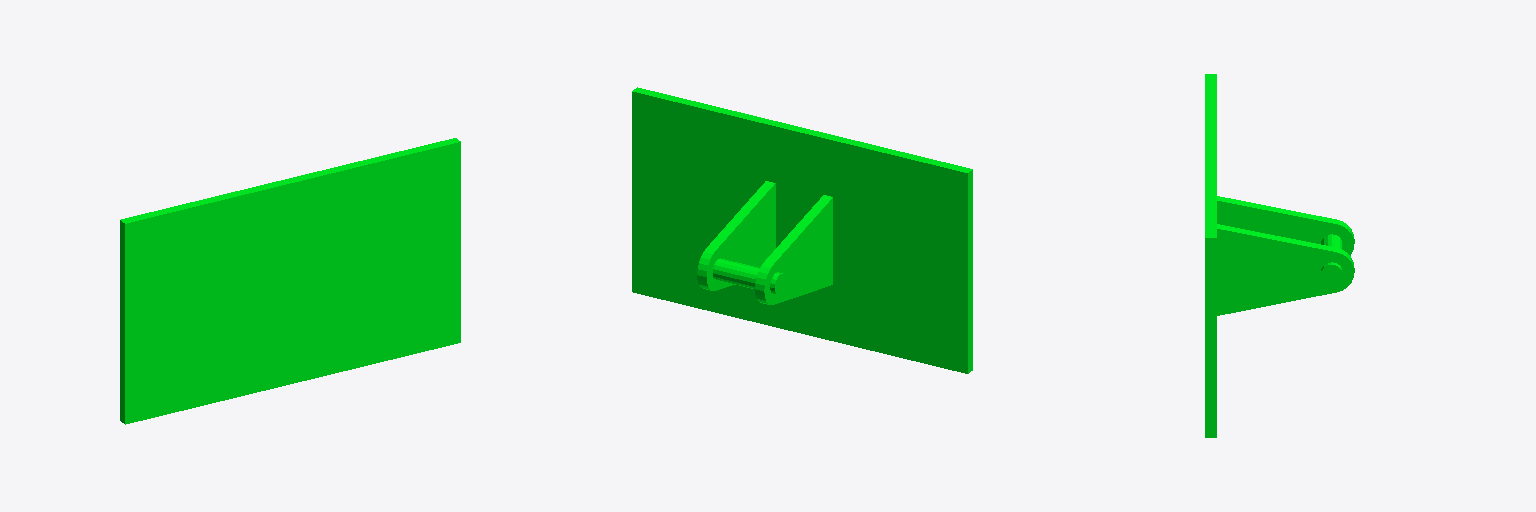
The model's file is OJB_Solid3.obj.
3 views of the same model, side by side, from view 1: azimuth 30°, elevation 25°; view 2: azimuth 150°, elevation 25°; view 3: azimuth 270°, elevation 25° (orthographic).
Parts seen in each view (by area): view 1: Solid1:2; view 2: Solid1:2; view 3: Solid1:2.
Boxes of the visible parts, x1,y1,x2,y2 form: Solid1:2: [120, 138, 460, 424]; Solid1:2: [632, 87, 972, 373]; Solid1:2: [1205, 74, 1354, 437].
Size of the model in its own units: 70 by 40 by 26.89.